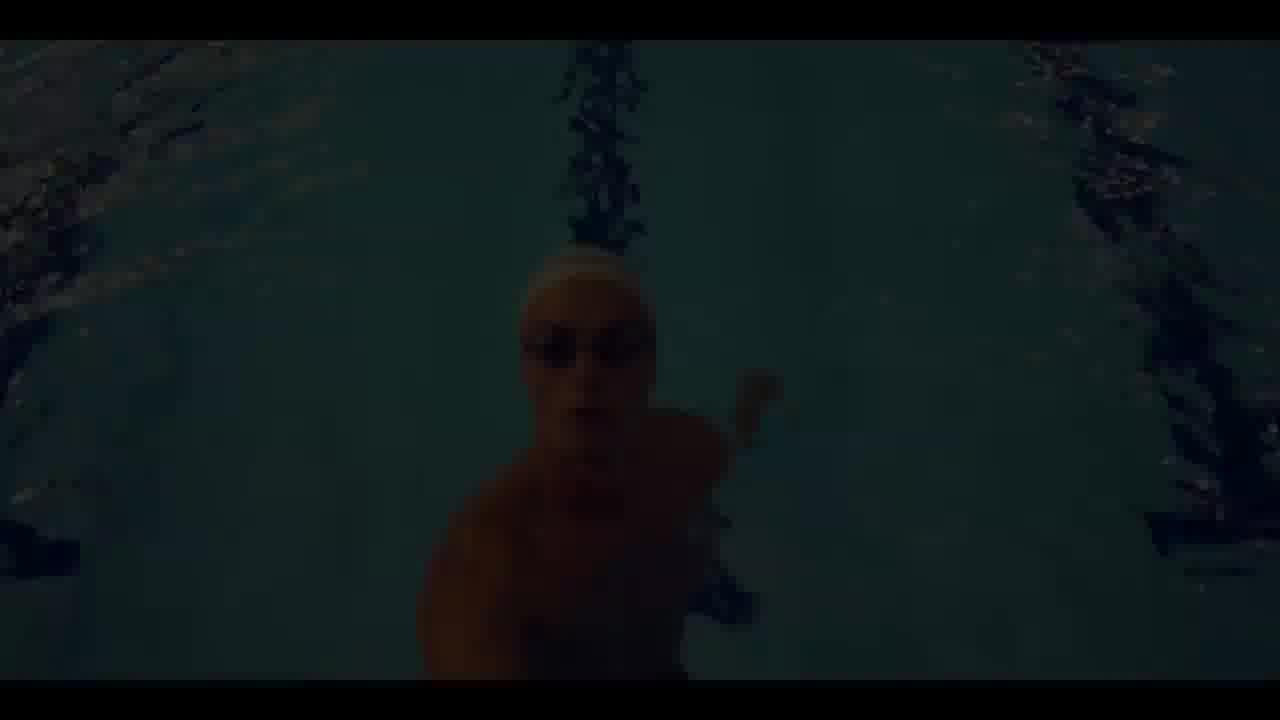swimmer: (432, 229, 732, 686)
